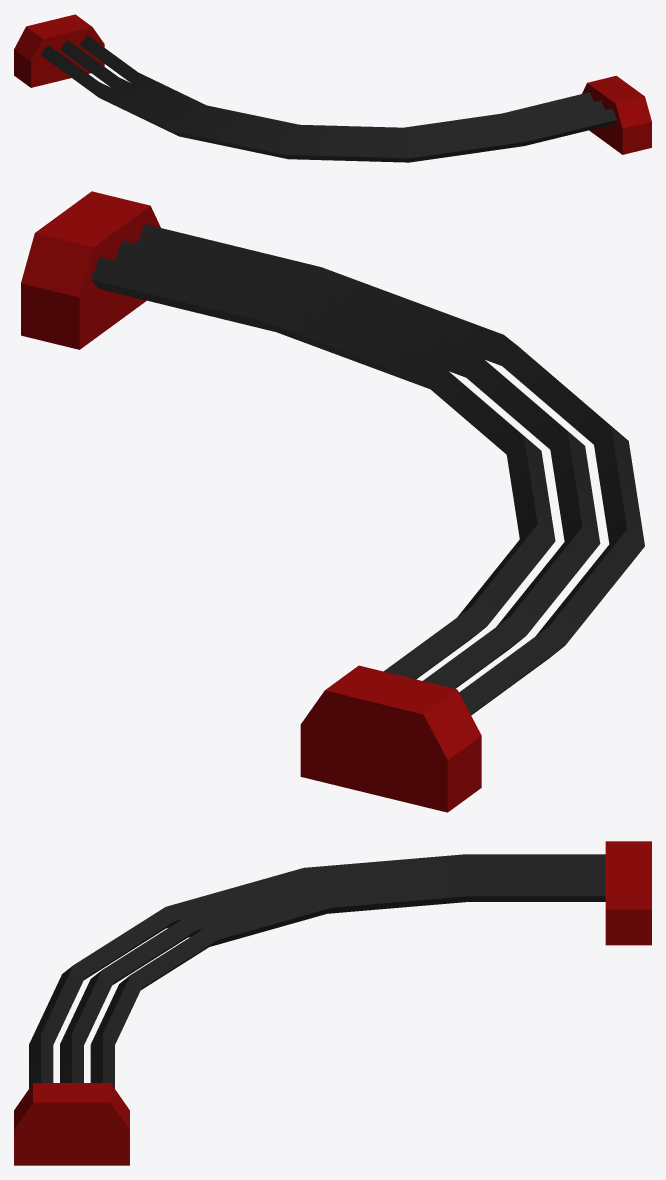
File: SM_Conduit_C.fbx
The picture shows the model from 3 angles, top to bottom: view 1: azimuth 30°, elevation 25°; view 2: azimuth 150°, elevation 25°; view 3: azimuth 270°, elevation 25°; orthographic projection. The views are drawn at different scales.
Parts seen in each view (by area): view 1: group_0.000; view 2: group_0.000; view 3: group_0.000.
Boxes of the visible parts, x1=… form: group_0.000: x1=14, y1=14, x2=651, y2=162; group_0.000: x1=21, y1=191, x2=644, y2=812; group_0.000: x1=14, y1=841, x2=651, y2=1165.
Size of the model in its own units: 138 by 15 by 138.
